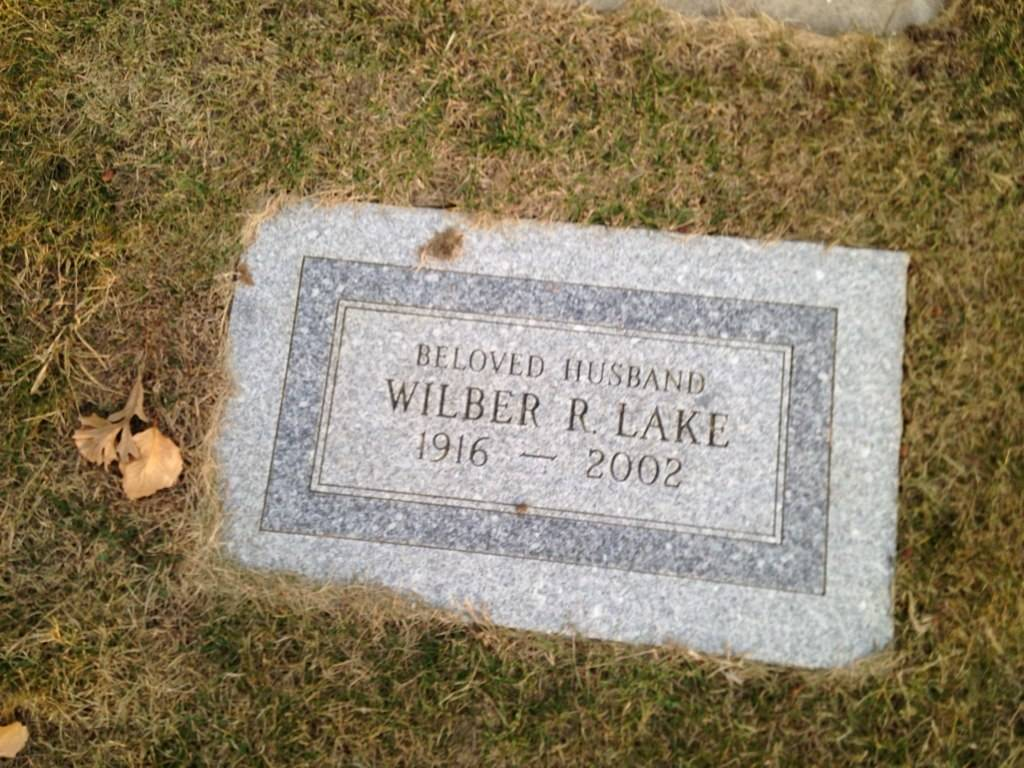flat: (210, 188, 906, 685)
